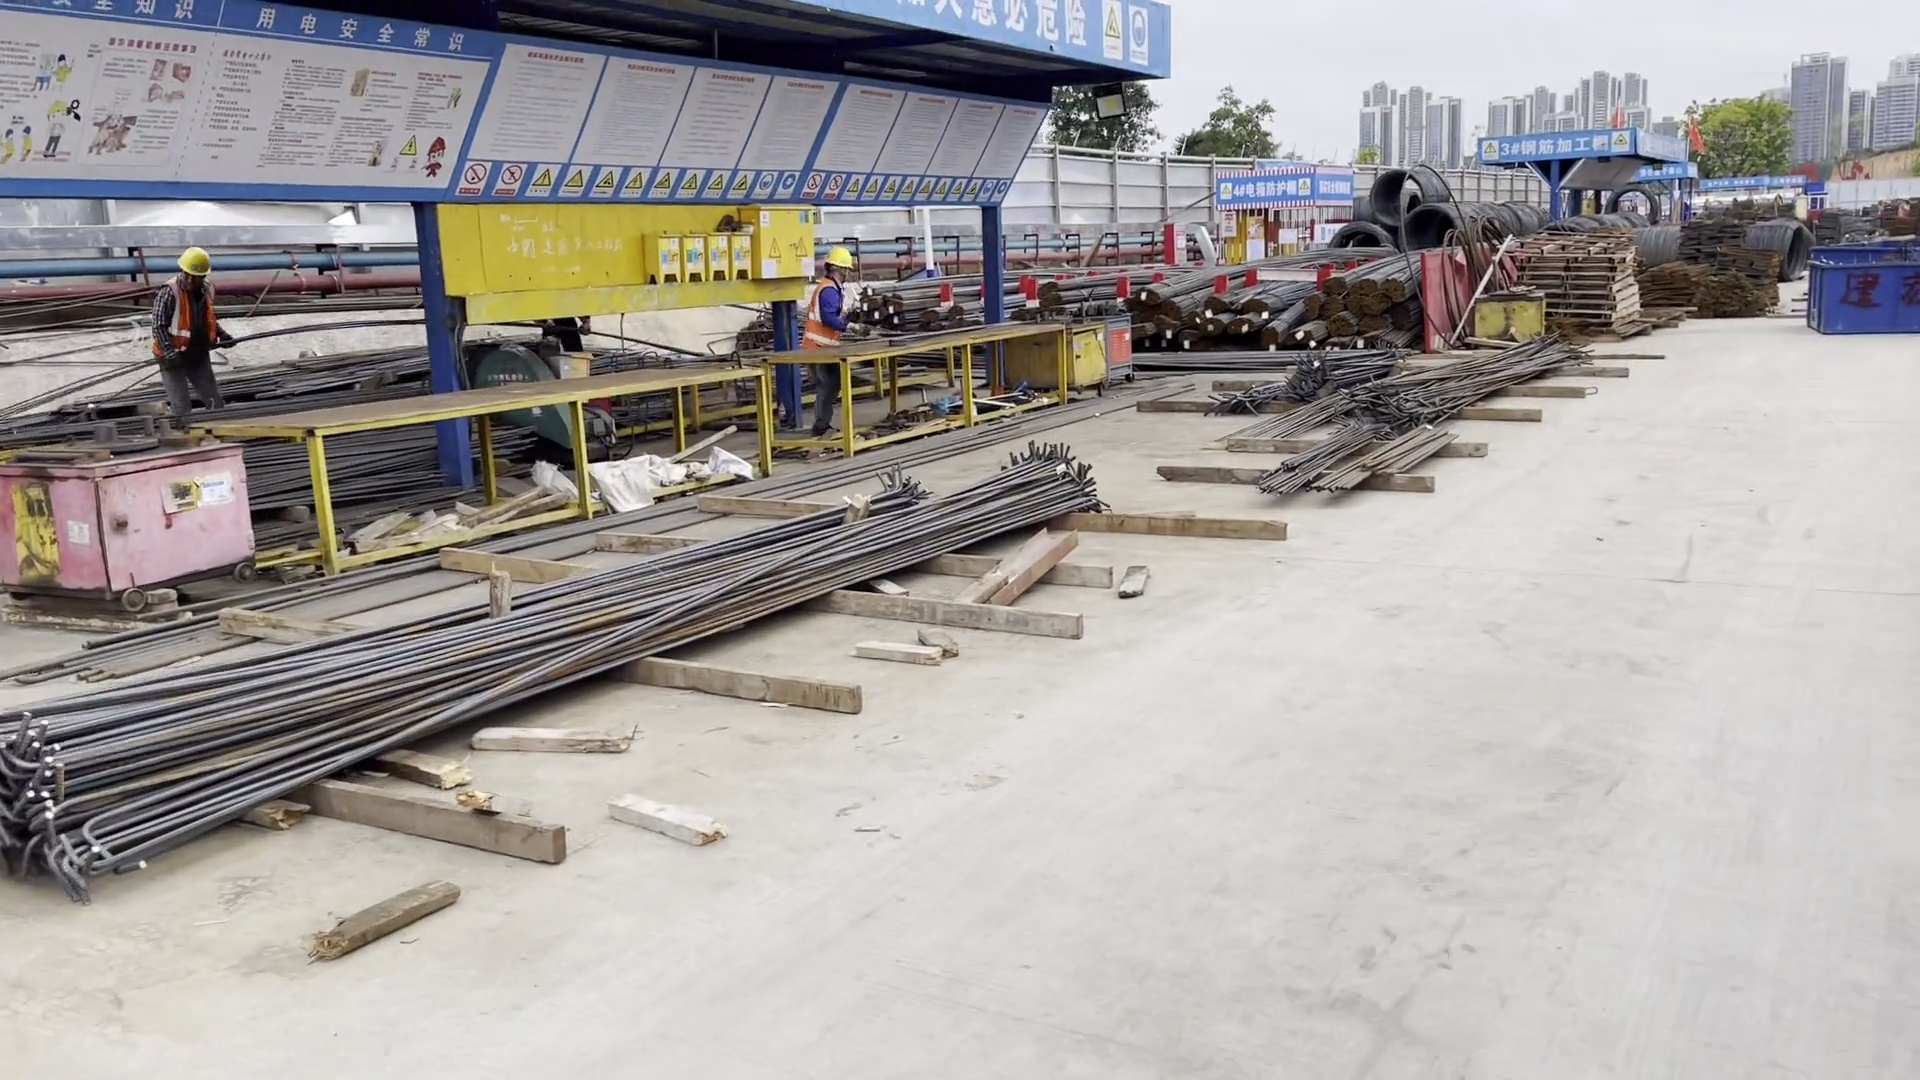ebox: (747, 208, 818, 282)
helmet: (174, 247, 208, 274), (826, 248, 853, 268)
hopper: (1791, 261, 1920, 335), (1812, 234, 1920, 260)
person: (149, 250, 226, 409), (795, 250, 864, 354)
rebar: (12, 452, 1103, 891), (1355, 350, 1571, 431), (1244, 417, 1412, 494), (1249, 254, 1398, 311), (1037, 262, 1186, 309), (1322, 238, 1437, 293), (1358, 244, 1445, 293), (897, 268, 1055, 293), (923, 290, 1027, 325), (1170, 274, 1252, 317), (1204, 275, 1290, 314), (864, 271, 988, 297), (1257, 301, 1310, 345), (1384, 253, 1432, 298), (891, 303, 971, 326), (963, 294, 1024, 321), (1387, 300, 1430, 338), (1347, 288, 1395, 314), (1147, 312, 1185, 346), (1285, 322, 1339, 343), (1226, 313, 1268, 337), (1356, 308, 1395, 335), (1320, 310, 1362, 334), (1307, 288, 1335, 319), (1171, 331, 1201, 353), (1184, 306, 1215, 327), (871, 307, 887, 328)
slogan: (910, 1, 1088, 54)
vest: (151, 283, 215, 360), (798, 275, 842, 353)
